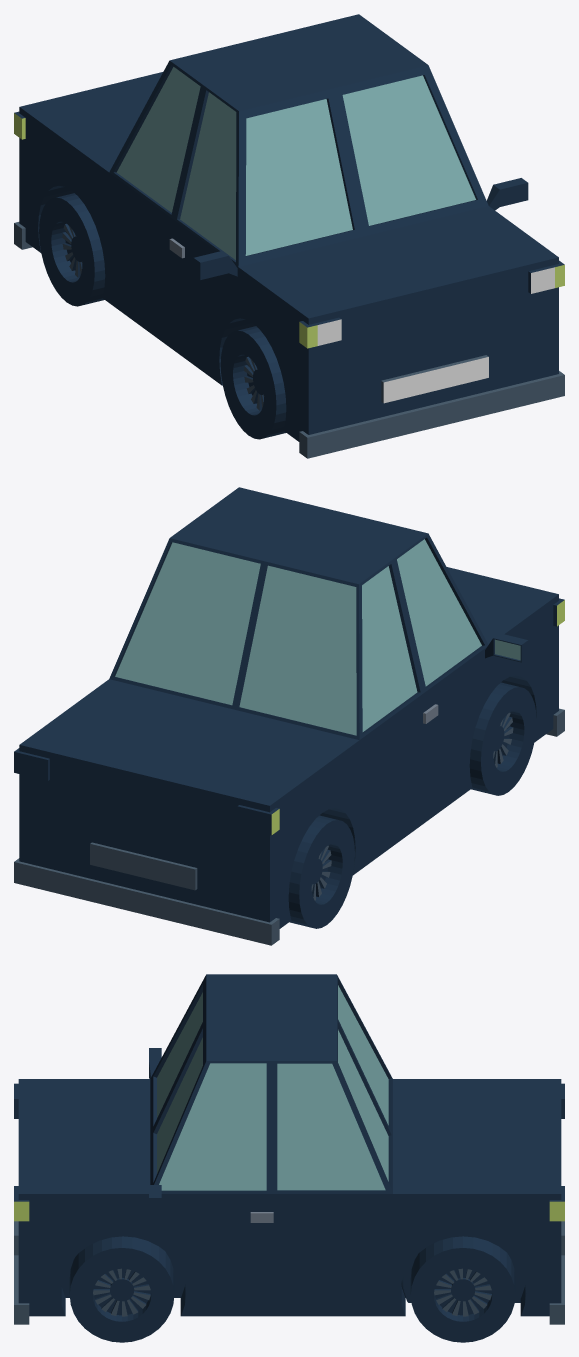
The model's file is low_poly_car.fbx.
The picture shows the model from 3 angles, top to bottom: view 1: azimuth 30°, elevation 25°; view 2: azimuth 150°, elevation 25°; view 3: azimuth 270°, elevation 25°; orthographic projection. The views are drawn at different scales.
Parts seen in each view (by area): view 1: Cube; view 2: Cube; view 3: Cube.
Part boxes in pixels (x1,y1,x2,y2): Cube: [14, 14, 564, 458]; Cube: [14, 487, 564, 945]; Cube: [14, 974, 564, 1342].
Bounding box in the file's own units: 2.62 × 2.16 × 4.06.
